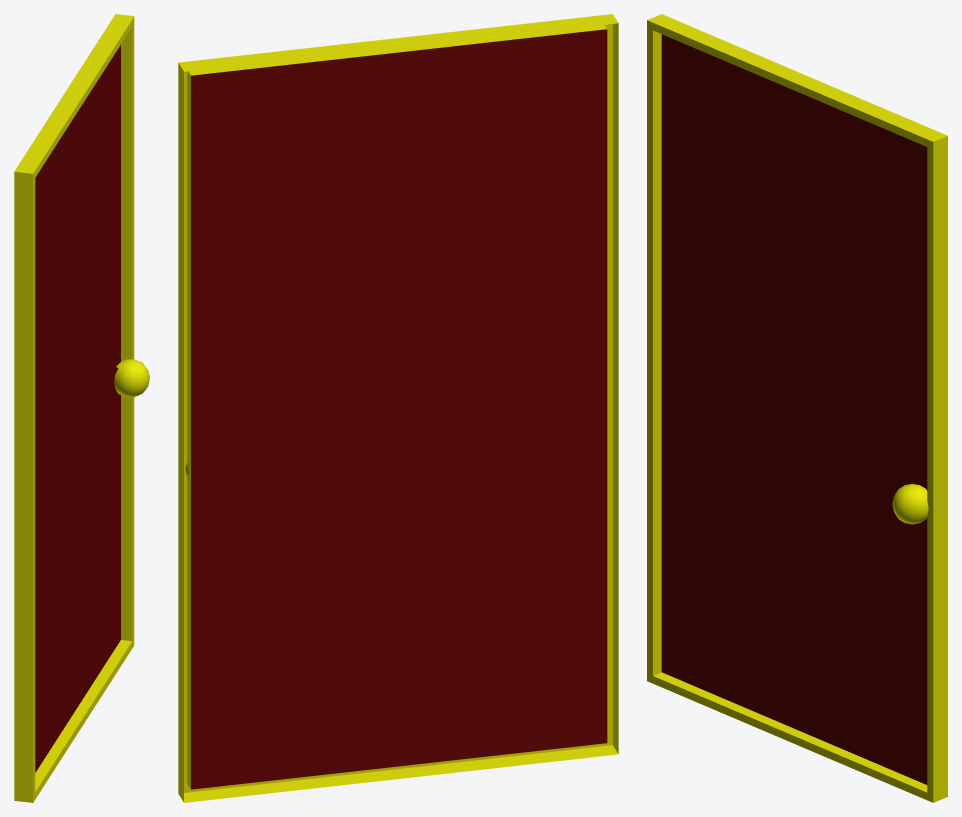
The model's file is Puerta.fbx.
The picture shows the model from 3 angles, left to right: view 1: azimuth 30°, elevation 25°; view 2: azimuth 150°, elevation 25°; view 3: azimuth 270°, elevation 25°; orthographic projection. The views are drawn at different scales.
Parts seen in each view (by area): view 1: pCube65; view 2: pCube65; view 3: pCube65.
Boxes of the visible parts, box(x1,y1,x2,y2) form: pCube65: box(14, 14, 149, 802); pCube65: box(178, 14, 618, 802); pCube65: box(647, 14, 947, 802).
Bounding box in the file's own units: 10.75 × 25.62 × 10.57.
